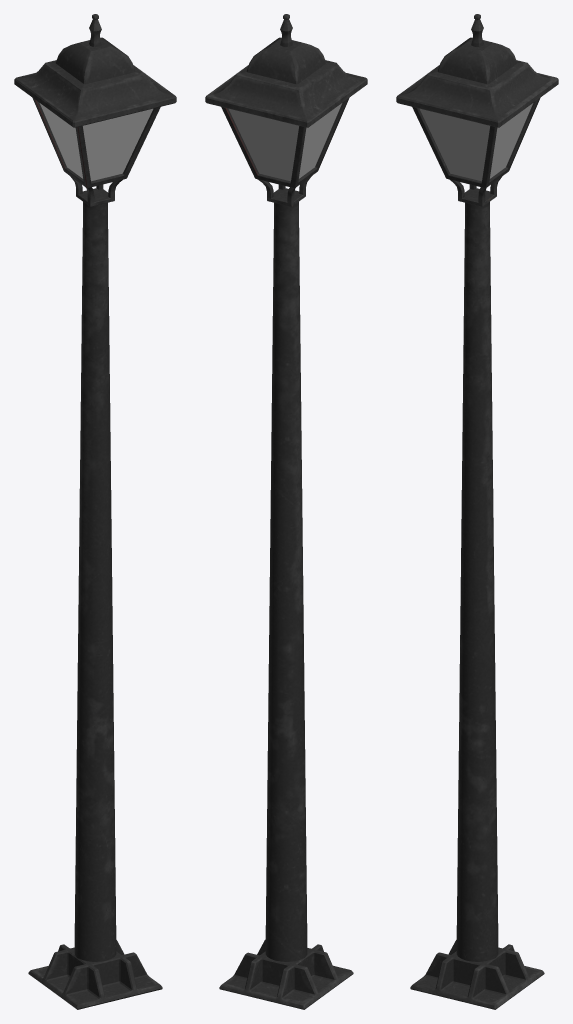
The model's file is SM_StreetLight.fbx.
3 renders of one model, left to right at view 1: azimuth 30°, elevation 25°; view 2: azimuth 150°, elevation 25°; view 3: azimuth 330°, elevation 25°, orthographic.
Visible parts, largest first — view 1: SM_StreetLight_LOD0; view 2: SM_StreetLight_LOD0; view 3: SM_StreetLight_LOD0.
Part boxes in pixels (<box>): SM_StreetLight_LOD0: <box>14,14,176,1009</box>; SM_StreetLight_LOD0: <box>205,14,367,1009</box>; SM_StreetLight_LOD0: <box>396,14,558,1009</box>.
Bounding box in the file's own units: 30.12 × 30.12 × 268.
Materials: 3 (1 with a texture image).
